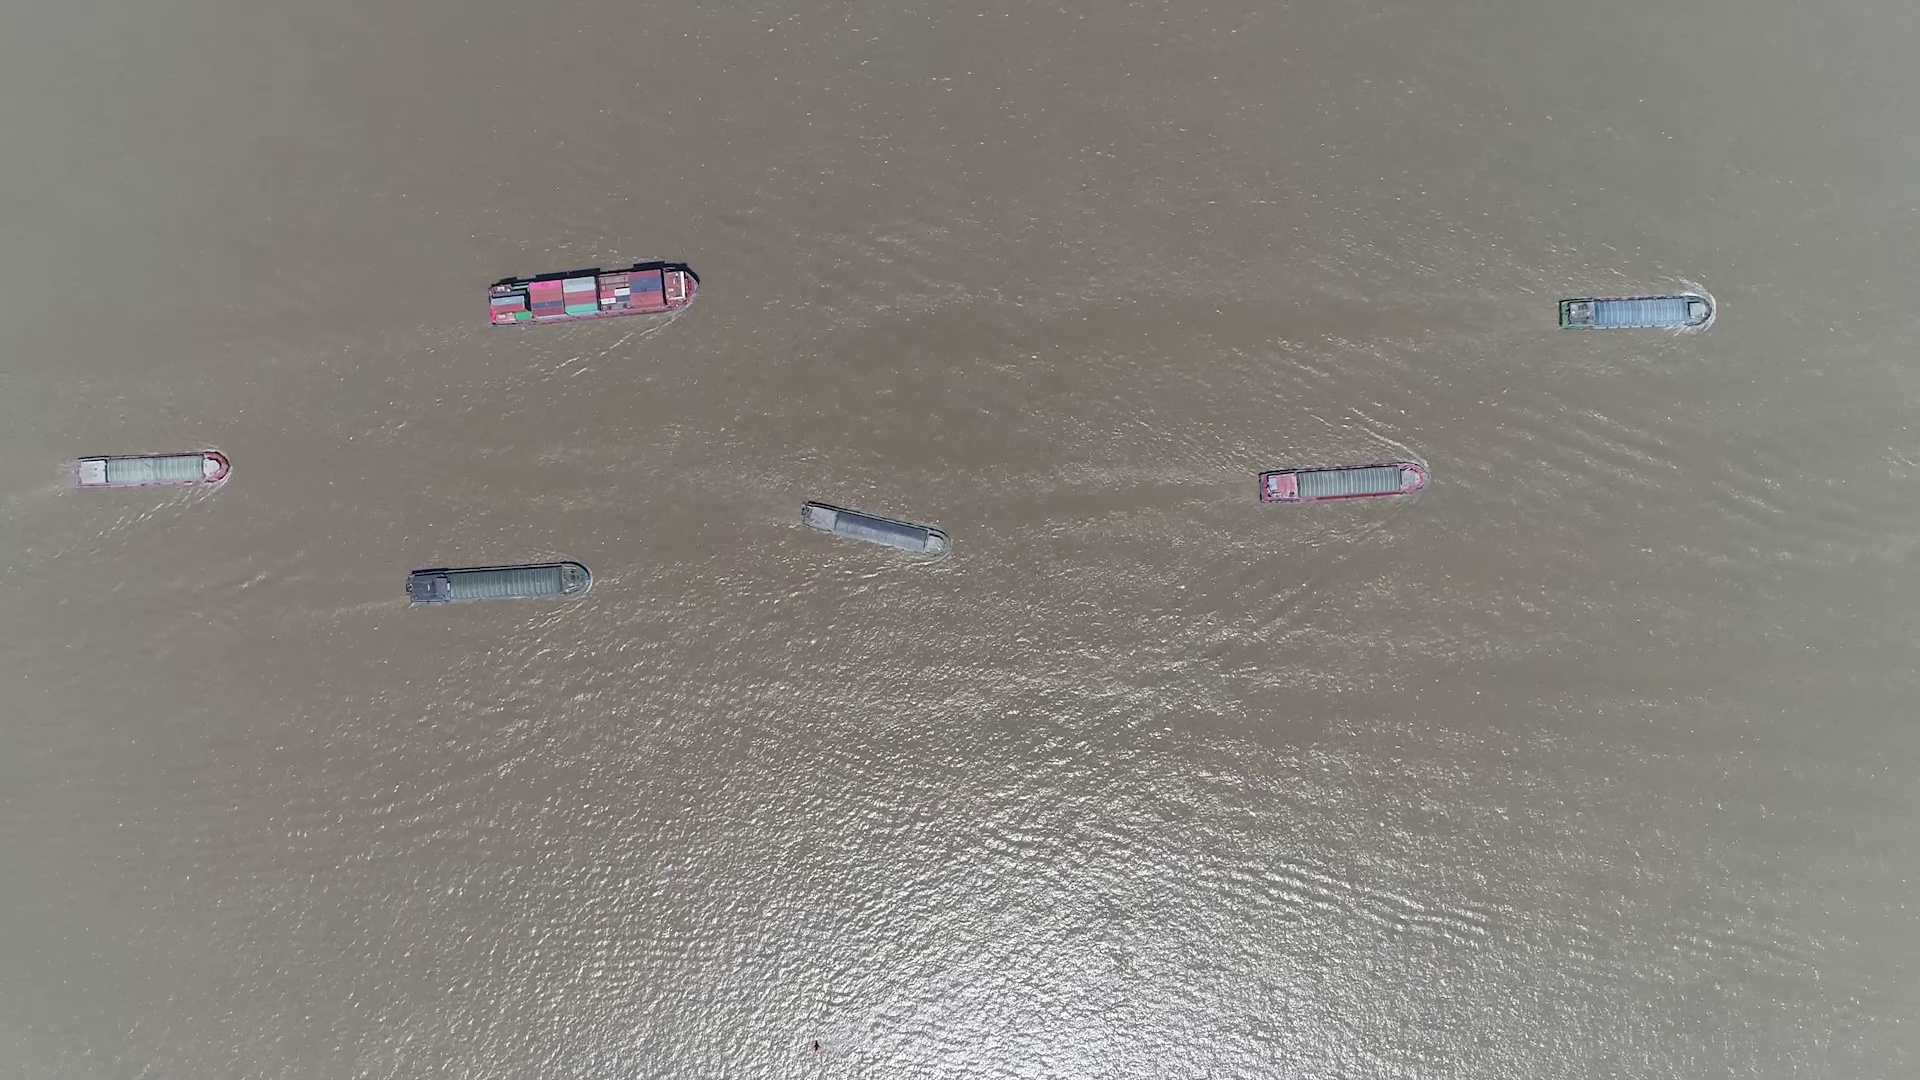ship: (487, 264, 698, 326), (798, 501, 948, 556), (404, 563, 591, 605), (1259, 462, 1428, 502), (74, 452, 229, 487), (1560, 297, 1713, 331)
